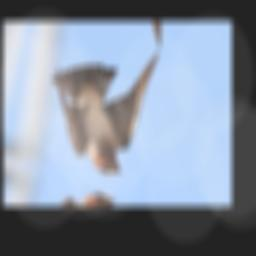Swallow: (36, 30, 160, 181)
